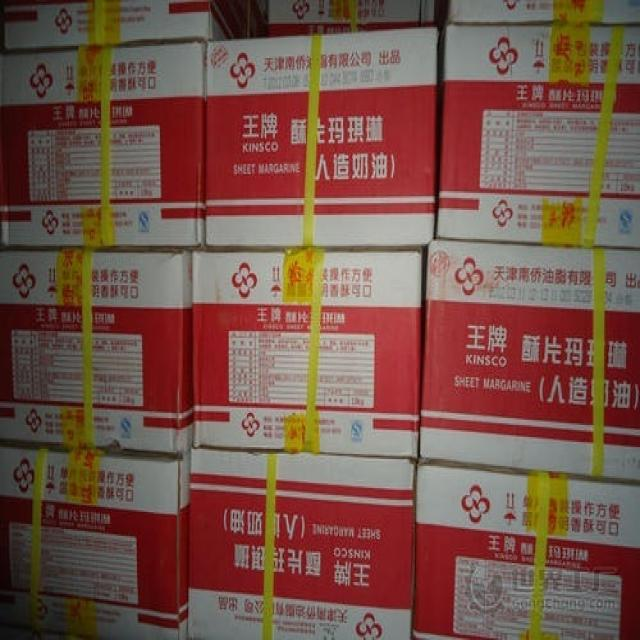box: (420, 239, 639, 483), (207, 27, 440, 248), (195, 251, 425, 459), (436, 25, 639, 247), (187, 447, 419, 638), (0, 42, 208, 252), (0, 249, 195, 457), (414, 462, 639, 637), (0, 446, 193, 638), (1, 1, 267, 53), (266, 0, 436, 36), (447, 0, 639, 22)
